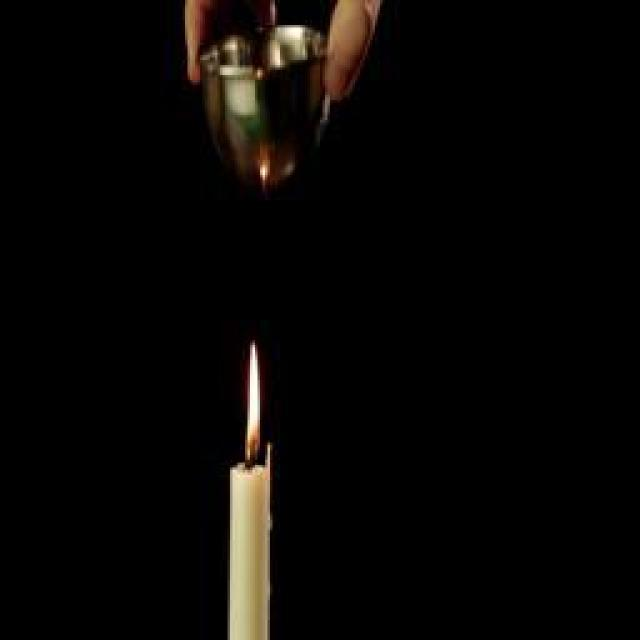Fire: (246, 345, 262, 455)
